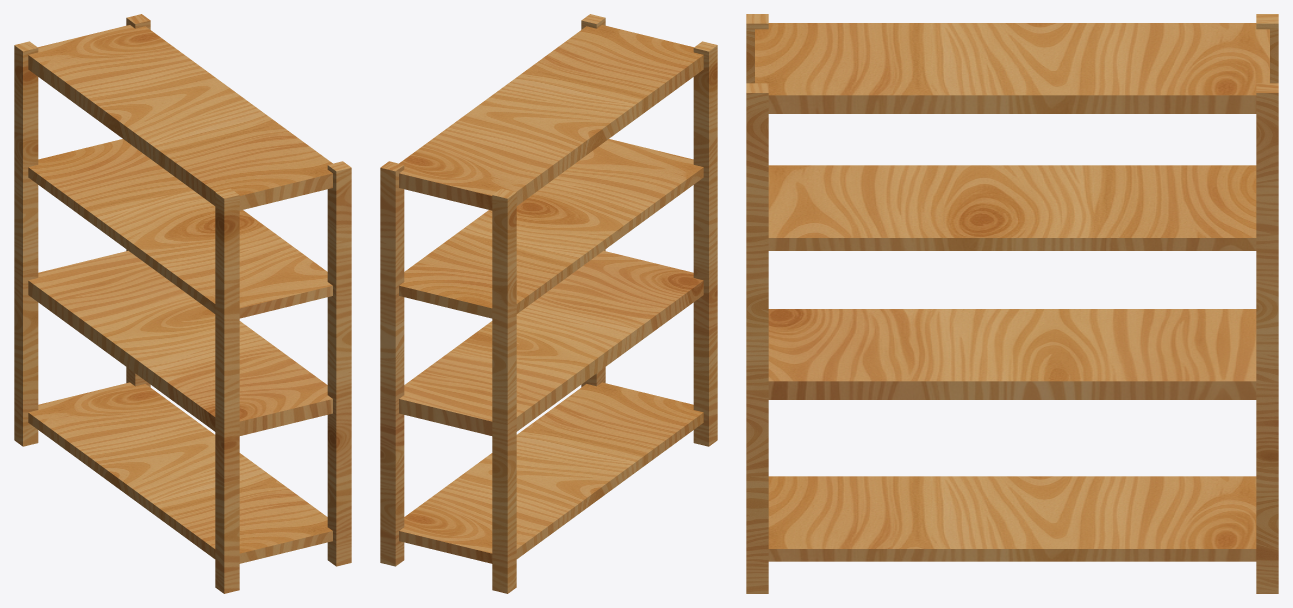
The model's file is Bedroom_Stuffs_Shelf_Drop.fbx.
The picture shows the model from 3 angles, left to right: view 1: azimuth 30°, elevation 25°; view 2: azimuth 150°, elevation 25°; view 3: azimuth 270°, elevation 25°; orthographic projection. The views are drawn at different scales.
Parts seen in each view (by area): view 1: Bedroom_Stuffs_Shelf_Drop.003, Bedroom_Stuffs_Shelf_Drop.001, Bedroom_Stuffs_Shelf_Drop.000, Bedroom_Stuffs_Shelf_Drop.002, Bedroom_Stuffs_Shelf_Drop.007, Bedroom_Stuffs_Shelf_Drop.006, Bedroom_Stuffs_Shelf_Drop.004, Bedroom_Stuffs_Shelf_Drop.005; view 2: Bedroom_Stuffs_Shelf_Drop.003, Bedroom_Stuffs_Shelf_Drop.001, Bedroom_Stuffs_Shelf_Drop.000, Bedroom_Stuffs_Shelf_Drop.002, Bedroom_Stuffs_Shelf_Drop.004, Bedroom_Stuffs_Shelf_Drop.005, Bedroom_Stuffs_Shelf_Drop.007, Bedroom_Stuffs_Shelf_Drop.006; view 3: Bedroom_Stuffs_Shelf_Drop.003, Bedroom_Stuffs_Shelf_Drop.001, Bedroom_Stuffs_Shelf_Drop.000, Bedroom_Stuffs_Shelf_Drop.002, Bedroom_Stuffs_Shelf_Drop.005, Bedroom_Stuffs_Shelf_Drop.006, Bedroom_Stuffs_Shelf_Drop.004, Bedroom_Stuffs_Shelf_Drop.007.
Boxes of the visible parts, box(x1,y1,x2,y2) form: Bedroom_Stuffs_Shelf_Drop.003: box(28, 25, 332, 210); Bedroom_Stuffs_Shelf_Drop.001: box(28, 250, 332, 435); Bedroom_Stuffs_Shelf_Drop.000: box(28, 382, 332, 563); Bedroom_Stuffs_Shelf_Drop.002: box(28, 139, 332, 318); Bedroom_Stuffs_Shelf_Drop.007: box(215, 188, 239, 593); Bedroom_Stuffs_Shelf_Drop.006: box(327, 161, 351, 566); Bedroom_Stuffs_Shelf_Drop.004: box(14, 41, 38, 446); Bedroom_Stuffs_Shelf_Drop.005: box(126, 14, 150, 387); Bedroom_Stuffs_Shelf_Drop.003: box(399, 25, 703, 210); Bedroom_Stuffs_Shelf_Drop.001: box(399, 250, 703, 435); Bedroom_Stuffs_Shelf_Drop.000: box(399, 382, 703, 563); Bedroom_Stuffs_Shelf_Drop.002: box(399, 139, 703, 318); Bedroom_Stuffs_Shelf_Drop.004: box(492, 188, 516, 593); Bedroom_Stuffs_Shelf_Drop.005: box(380, 161, 404, 566); Bedroom_Stuffs_Shelf_Drop.007: box(693, 41, 717, 446); Bedroom_Stuffs_Shelf_Drop.006: box(581, 14, 605, 387); Bedroom_Stuffs_Shelf_Drop.003: box(755, 23, 1269, 113); Bedroom_Stuffs_Shelf_Drop.001: box(768, 309, 1256, 399); Bedroom_Stuffs_Shelf_Drop.000: box(768, 476, 1256, 561); Bedroom_Stuffs_Shelf_Drop.002: box(768, 165, 1256, 250); Bedroom_Stuffs_Shelf_Drop.005: box(1256, 83, 1278, 593); Bedroom_Stuffs_Shelf_Drop.006: box(746, 83, 768, 593); Bedroom_Stuffs_Shelf_Drop.004: box(1256, 14, 1278, 83); Bedroom_Stuffs_Shelf_Drop.007: box(746, 14, 768, 83).
Bounding box in the file's own units: 39.46 × 117 × 113.
